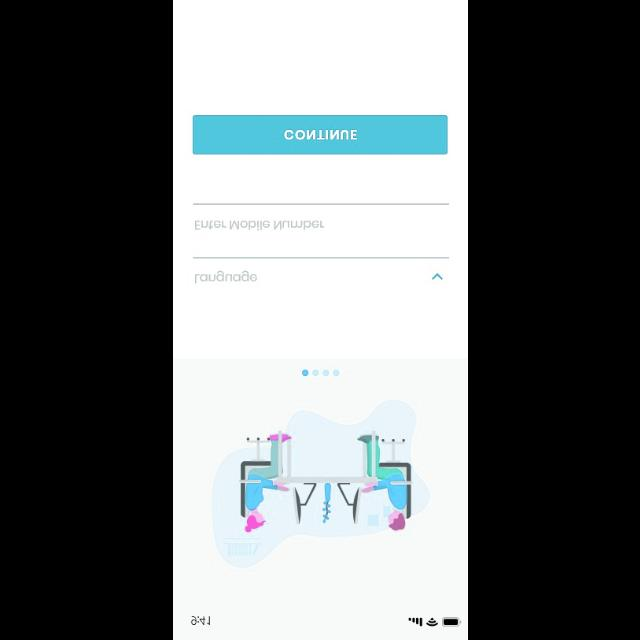icon: (432, 272, 442, 280)
image: (212, 399, 430, 567)
input: (193, 256, 449, 284), (193, 203, 449, 231)
pageindicator: (302, 368, 341, 376)
text: (194, 220, 324, 230), (195, 270, 258, 284)
textbutton: (192, 116, 448, 154)
uppertaskbar: (190, 616, 462, 626)
